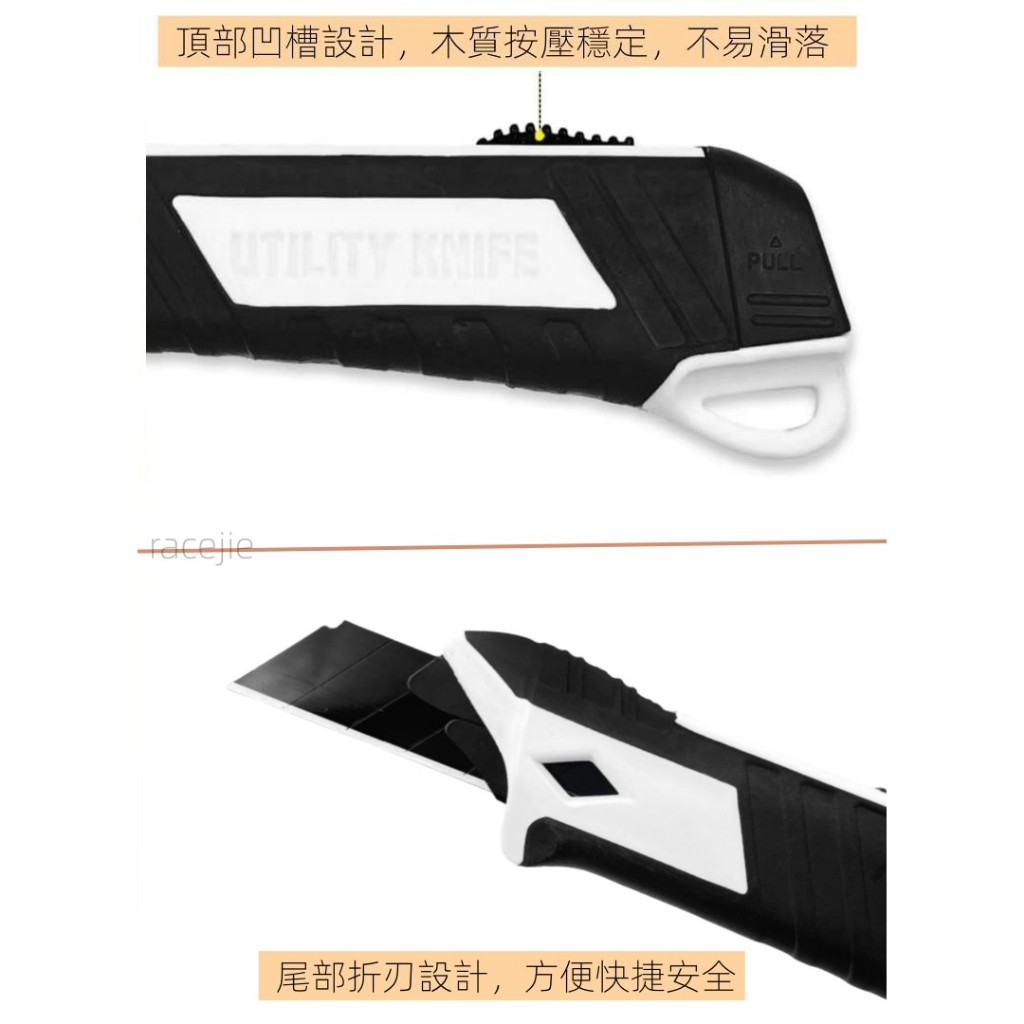cutter: (234, 620, 885, 1001), (144, 119, 868, 459)
